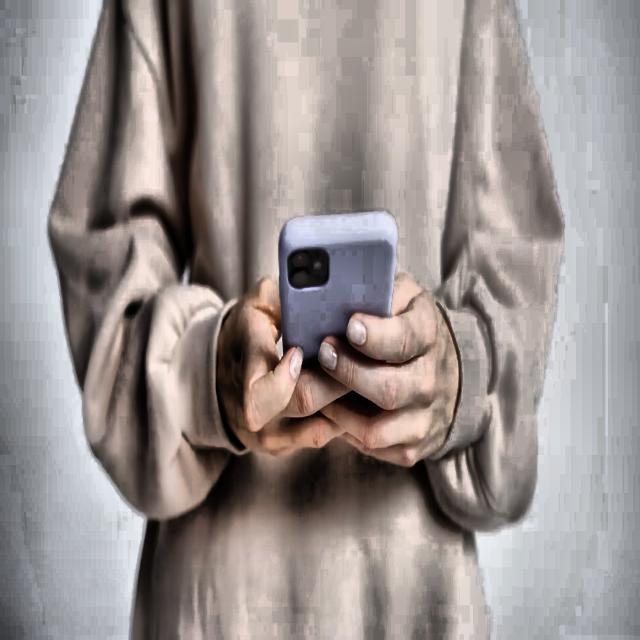Phone: (275, 206, 400, 377)
